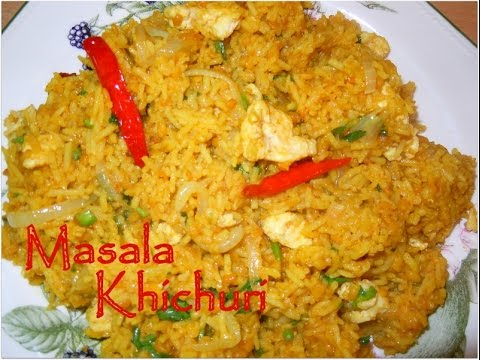khichuri: (16, 4, 471, 354)
